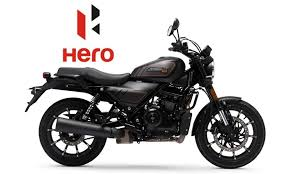motorcycle: (26, 14, 267, 165)
